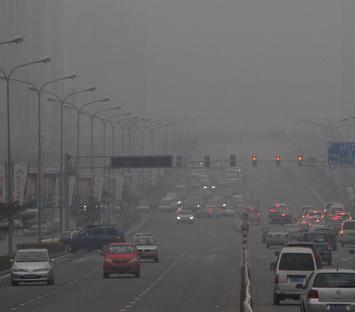car: (271, 244, 316, 304), (295, 267, 355, 312), (59, 224, 125, 254), (9, 248, 56, 285), (99, 243, 143, 278), (297, 229, 331, 264), (129, 232, 162, 264), (309, 224, 339, 251), (264, 226, 291, 249), (338, 219, 355, 248), (194, 204, 222, 220), (174, 209, 195, 223)
